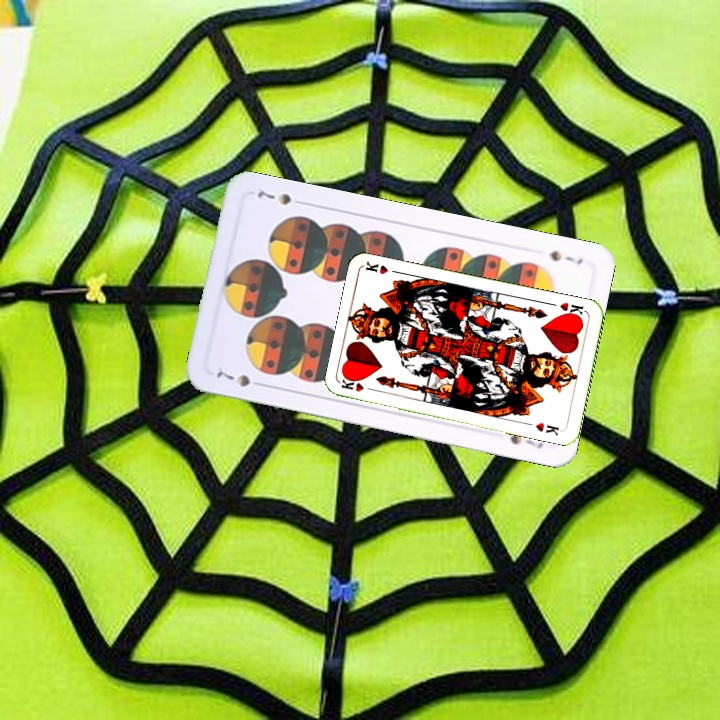HK: (338, 375, 379, 394), (556, 298, 588, 321)
S7: (213, 367, 268, 390), (546, 246, 585, 267)
